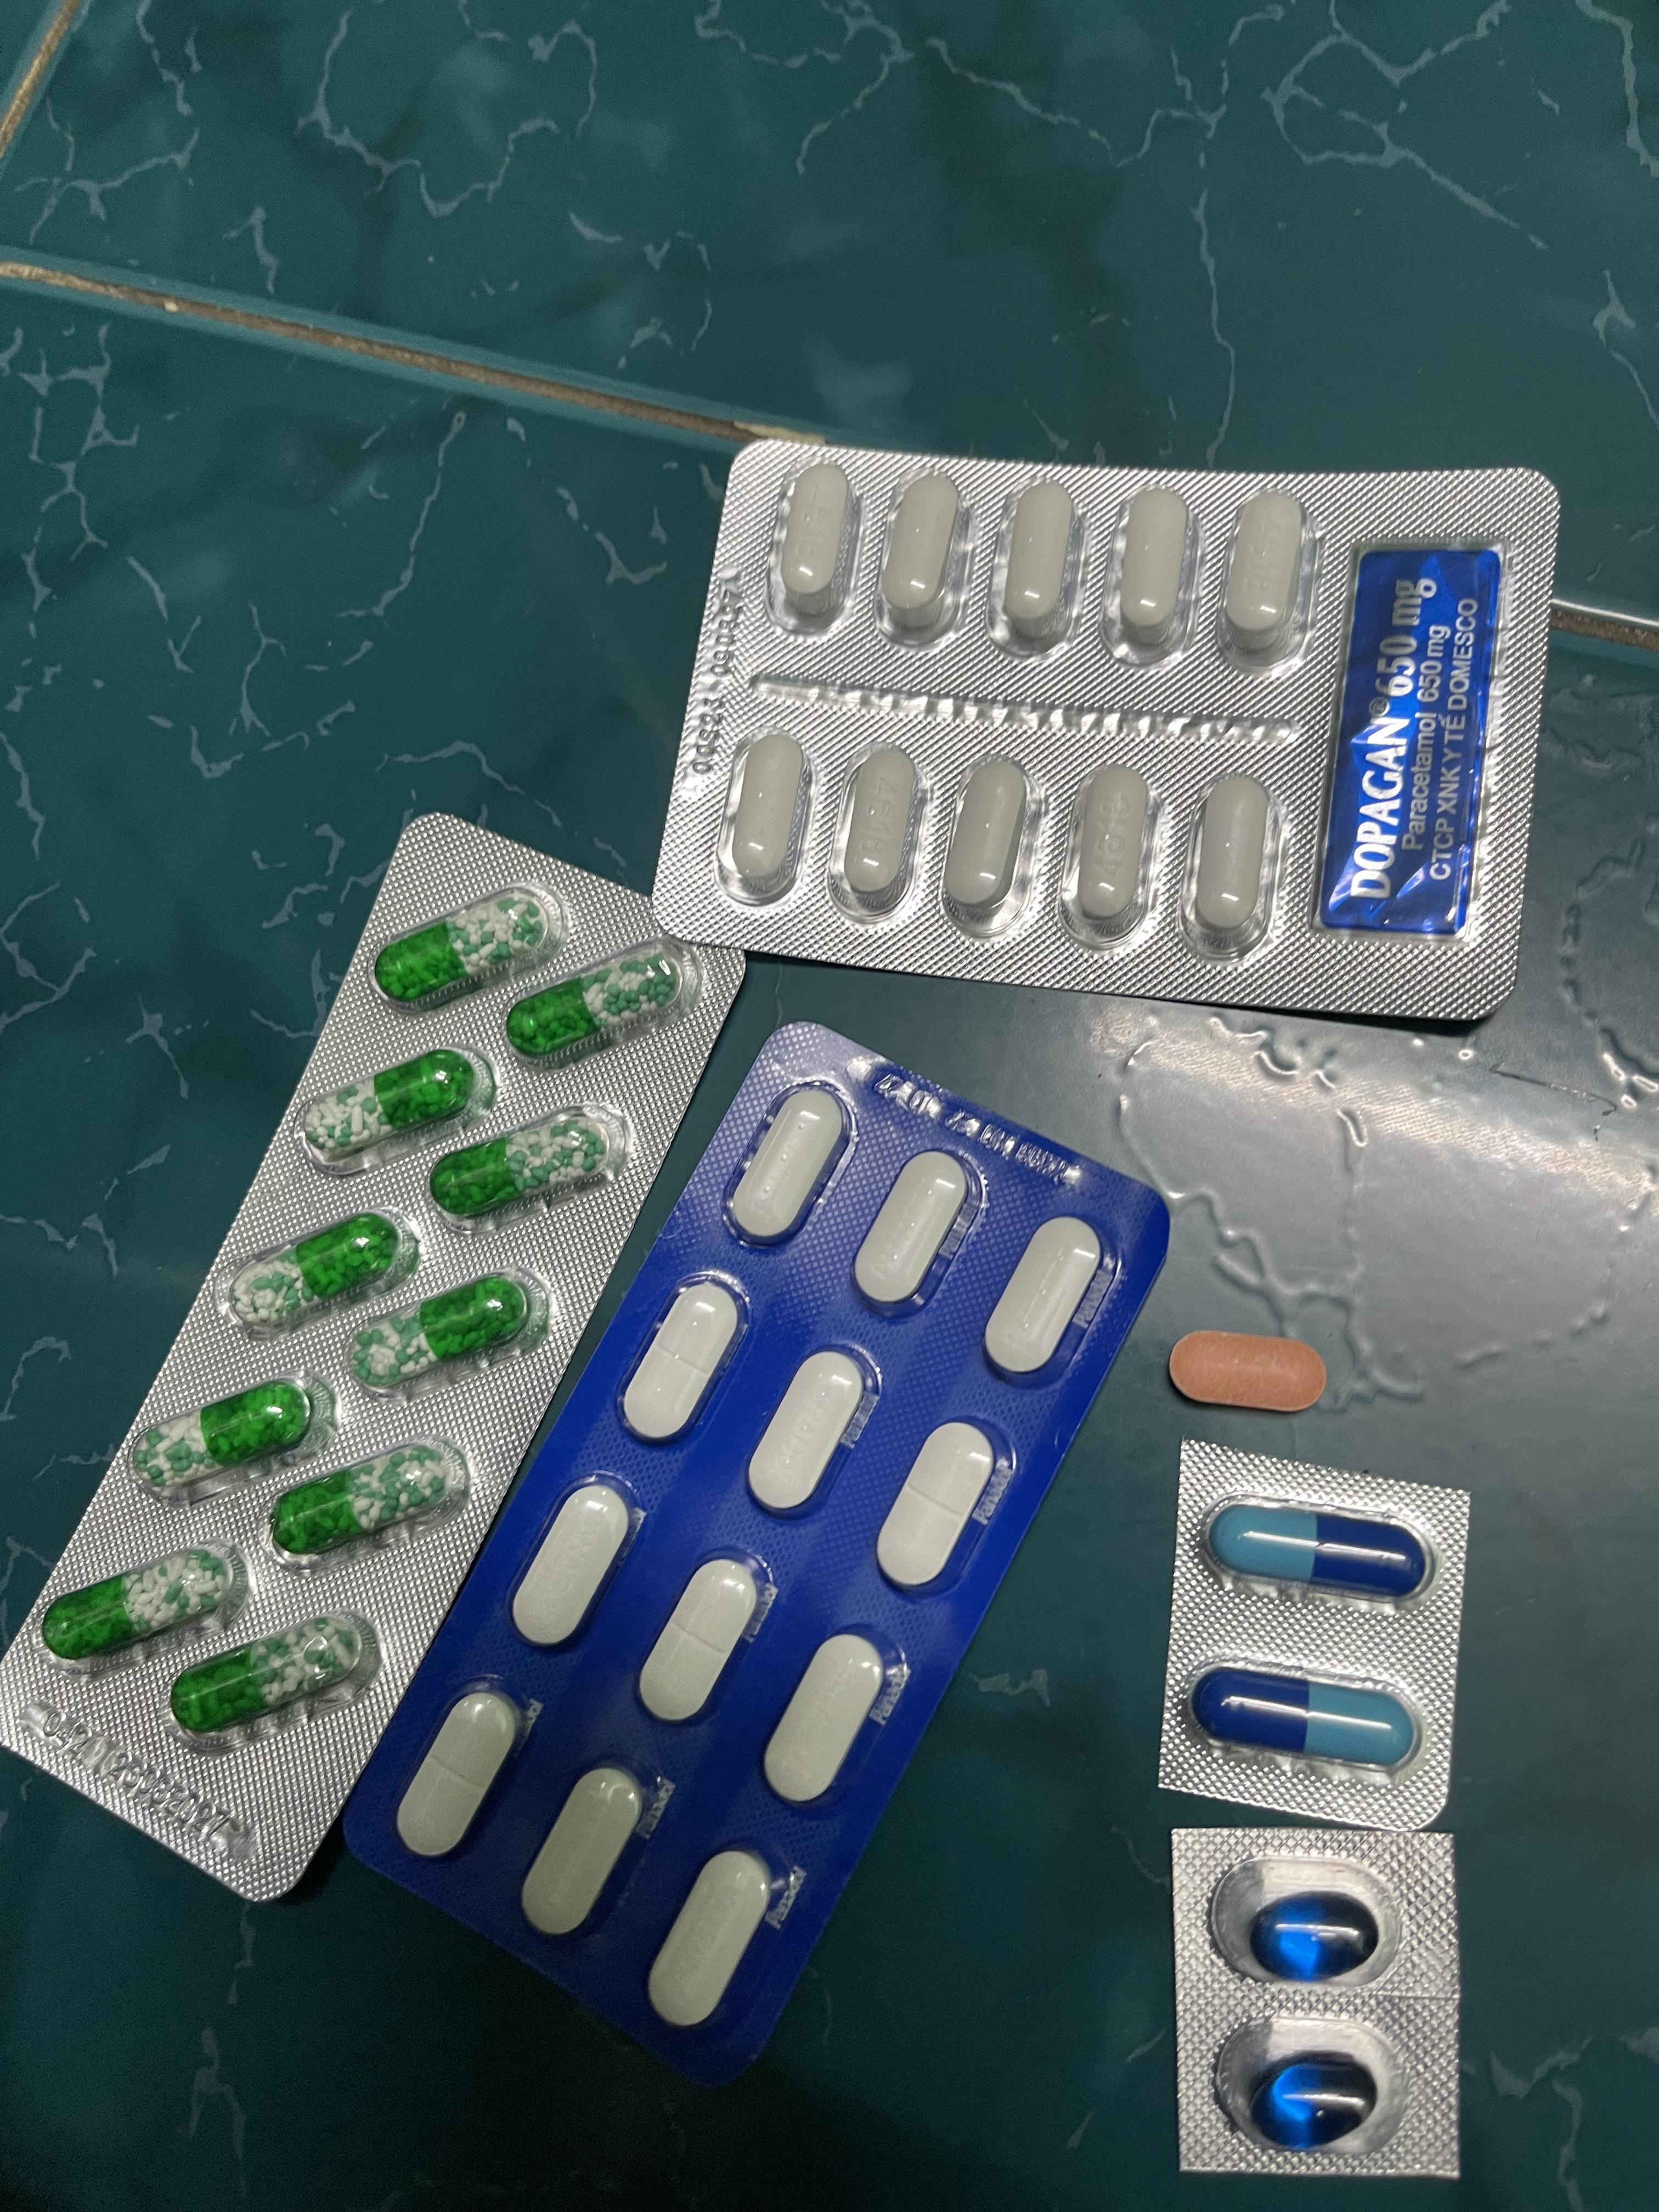Lincomyxin_500mg: (1245, 2053, 1380, 2148), (1248, 1894, 1383, 1982)
Loratadine_10mg: (1170, 1330, 1323, 1413)
Paracetamol_350mg: (763, 1631, 896, 1810), (650, 1848, 782, 2027), (637, 1553, 764, 1726), (522, 1765, 649, 1938), (397, 1688, 524, 1861), (744, 1348, 872, 1520), (876, 1420, 1001, 1594), (621, 1277, 744, 1449), (511, 1479, 634, 1651), (727, 1084, 855, 1245), (852, 1149, 980, 1311), (983, 1218, 1105, 1380)
Paracetamol_500mg: (938, 753, 1037, 933), (827, 740, 924, 916), (878, 471, 964, 631), (1222, 491, 1303, 652), (1003, 477, 1081, 641), (1191, 772, 1269, 932), (778, 459, 855, 613), (1115, 484, 1188, 643), (730, 734, 808, 882), (1073, 768, 1143, 919)
Paracetamol_650mg: (39, 1536, 247, 1663), (171, 1615, 374, 1738), (130, 1376, 329, 1497), (510, 936, 702, 1056), (356, 1273, 546, 1391), (269, 1443, 456, 1555), (229, 1214, 410, 1327), (300, 1053, 484, 1161), (376, 898, 548, 1003), (435, 1115, 606, 1214)
pill: (1203, 1676, 1411, 1770), (1220, 1509, 1429, 1602)
